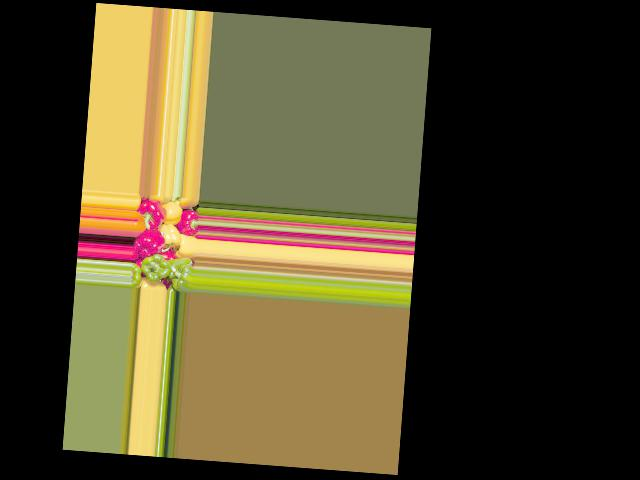bell_pepper: (129, 262, 146, 289)
